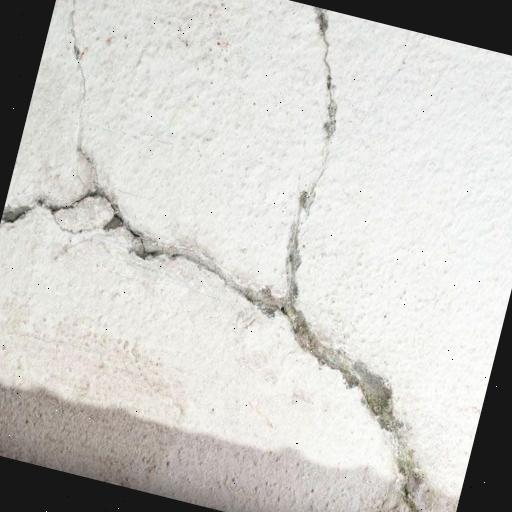spalling: (0, 5, 434, 492)
